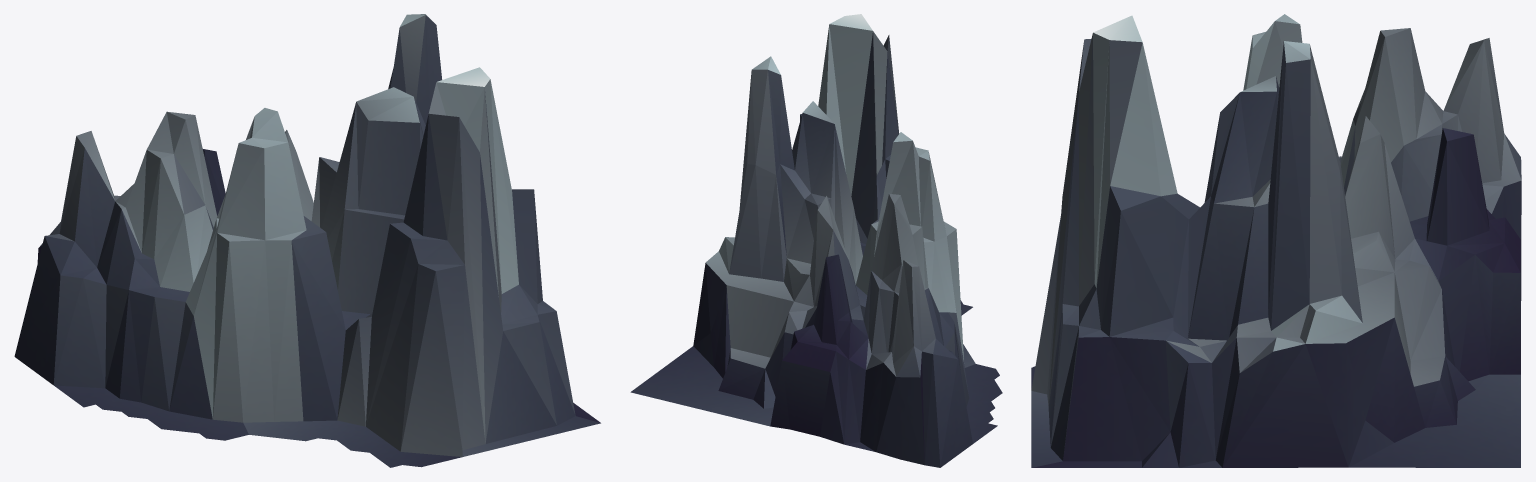
Rendered from Terrain_Mountains01.fbx.
The picture shows the model from 3 angles, left to right: view 1: azimuth 30°, elevation 25°; view 2: azimuth 150°, elevation 25°; view 3: azimuth 270°, elevation 25°; orthographic projection. The views are drawn at different scales.
Parts seen in each view (by area): view 1: Plane; view 2: Plane; view 3: Plane.
Part boxes in pixels (left/top/right/bottom): Plane: left=14, top=14, right=600, bottom=467; Plane: left=630, top=14, right=1002, bottom=467; Plane: left=1031, top=14, right=1521, bottom=467.
Size of the model in its own units: 20444 by 18086 by 20464.
